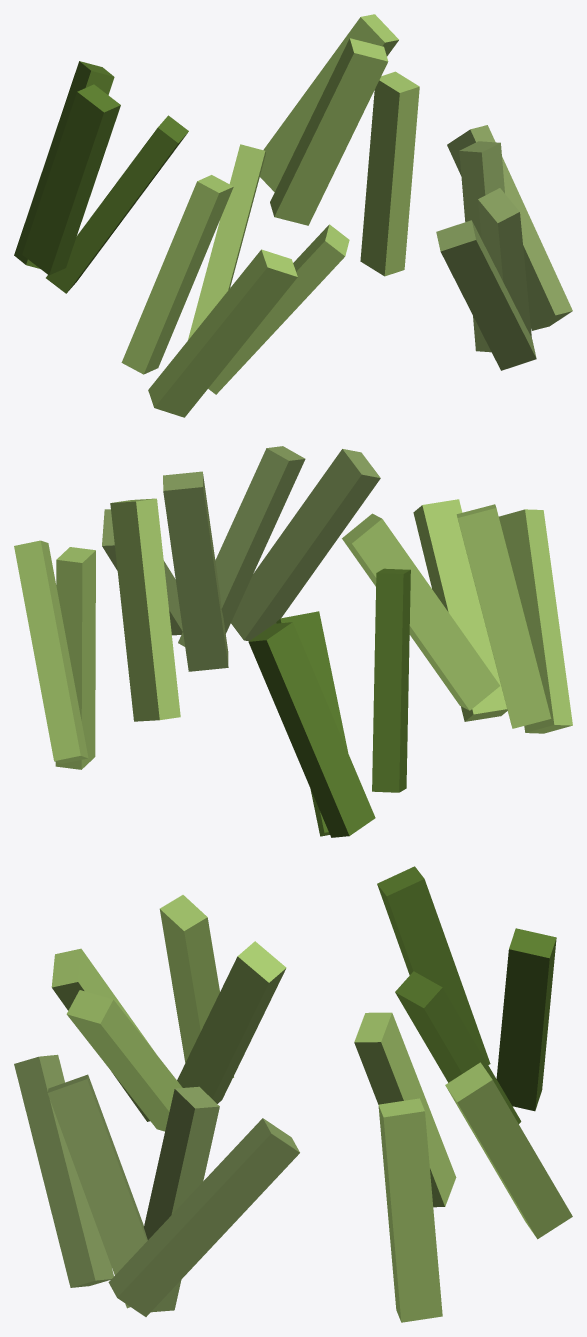
Rendered from grass_spikeTiny_fbx.fbx.
3 views of the same model, one above another, from view 1: azimuth 30°, elevation 25°; view 2: azimuth 150°, elevation 25°; view 3: azimuth 270°, elevation 25° (orthographic). The views are drawn at different scales.
Visible parts, largest first — view 1: grass_tiny4, grass_tiny3, grass_tiny2, grass_tiny1; view 2: grass_tiny4, grass_tiny2, grass_tiny3, grass_tiny1; view 3: grass_tiny2, grass_tiny3, grass_tiny4, grass_tiny1.
Part boxes in pixels (<box>): grass_tiny4: <box>121,144,349,417</box>; grass_tiny3: <box>260,14,419,276</box>; grass_tiny2: <box>436,125,572,370</box>; grass_tiny1: <box>14,61,188,293</box>; grass_tiny4: <box>342,499,572,733</box>; grass_tiny2: <box>102,446,380,671</box>; grass_tiny3: <box>14,498,180,769</box>; grass_tiny1: <box>248,568,410,837</box>; grass_tiny2: <box>14,1054,299,1316</box>; grass_tiny3: <box>354,1012,572,1322</box>; grass_tiny4: <box>51,895,286,1131</box>; grass_tiny1: <box>377,866,556,1123</box>.
Size of the model in its own units: 66.51 by 39.11 by 70.38.
4 materials, 4 textured.
